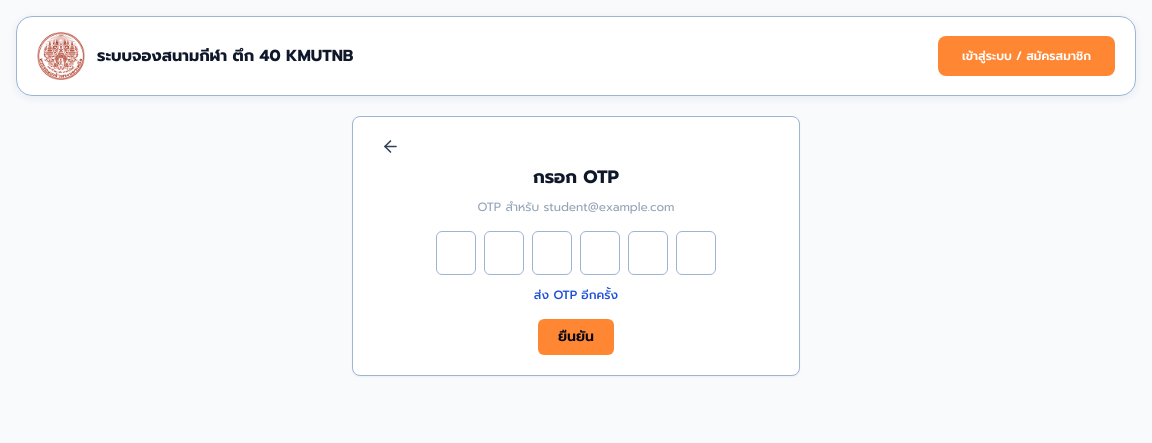
Test: keeps the OTP step on API failure: OTP นี้ถูกใช้แล้ว
Step 1. Type "1" into the field named "OTP หลักที่ 1" → (456, 253), box top-left (436, 231), bottom-right (476, 275)
Step 2. Type "2" into the field named "OTP หลักที่ 2" → (504, 253), box top-left (484, 231), bottom-right (524, 275)
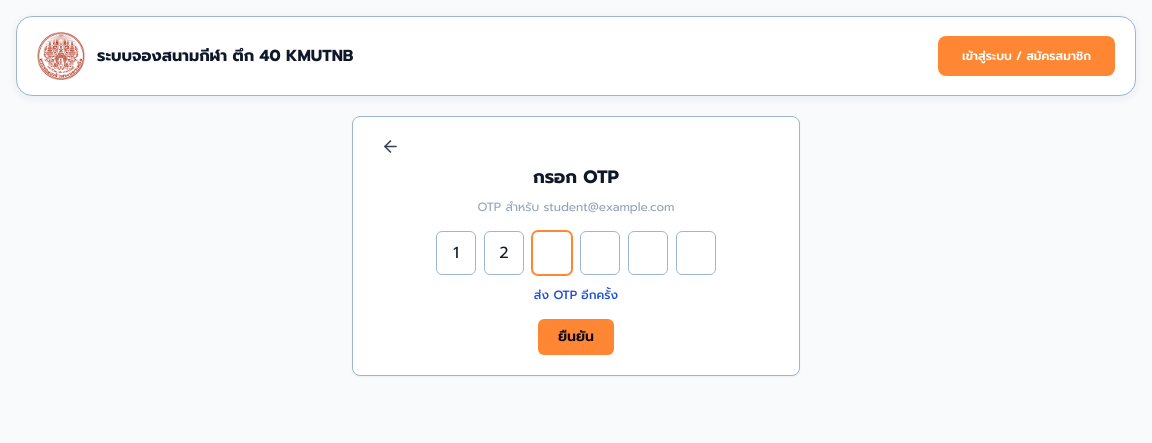
Step 3. Type "3" into the field named "OTP หลักที่ 3" → (552, 253), box top-left (532, 231), bottom-right (572, 275)
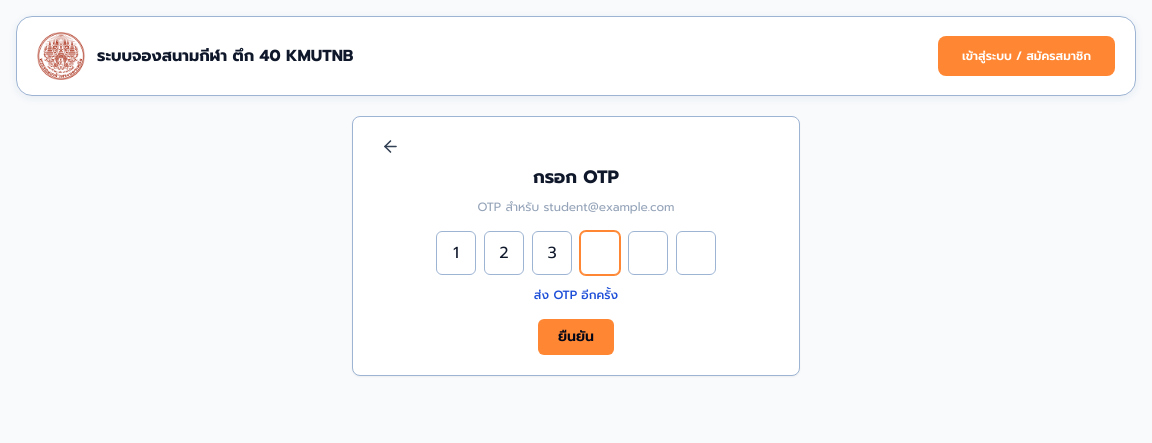
Step 4. Type "4" into the field named "OTP หลักที่ 4" → (600, 253), box top-left (580, 231), bottom-right (620, 275)
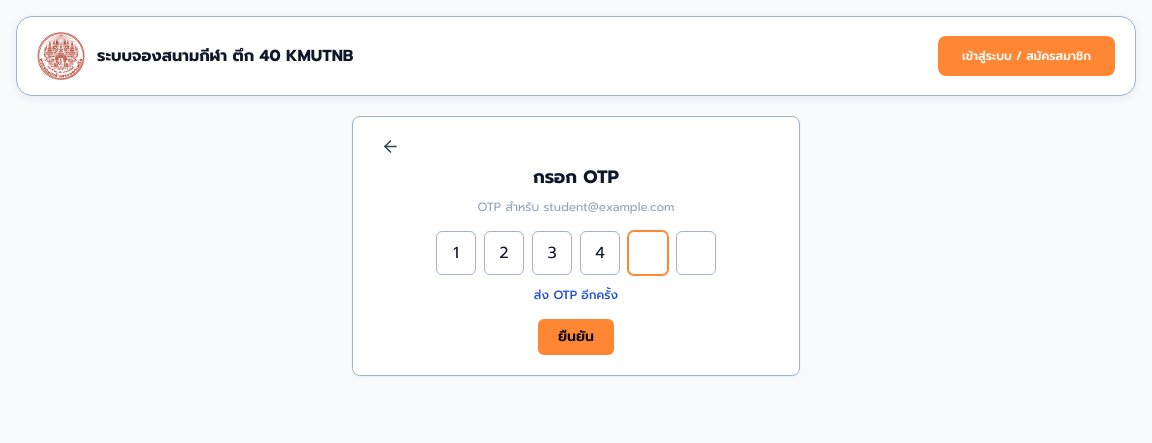
Step 5. Type "5" into the field named "OTP หลักที่ 5" → (648, 253), box top-left (628, 231), bottom-right (668, 275)
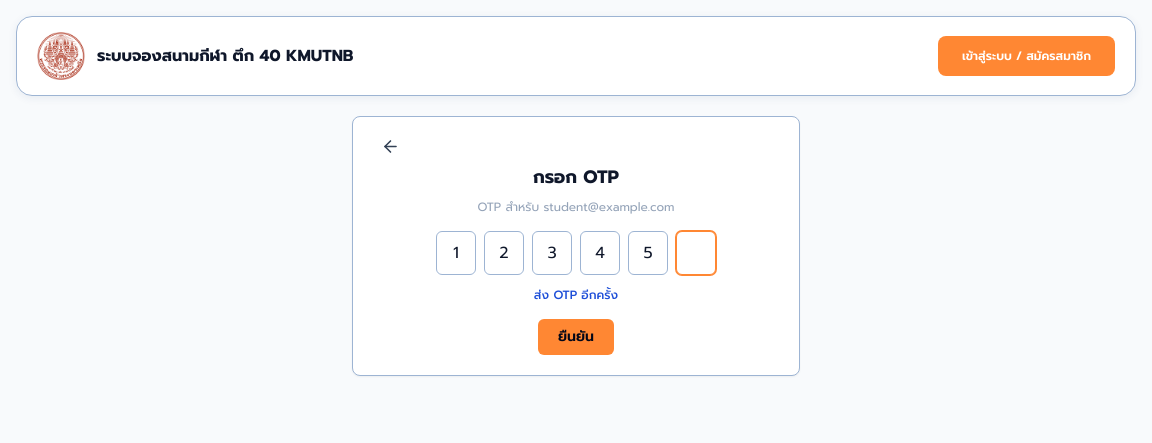
Step 6. Type "6" into the field named "OTP หลักที่ 6" → (696, 253), box top-left (676, 231), bottom-right (716, 275)
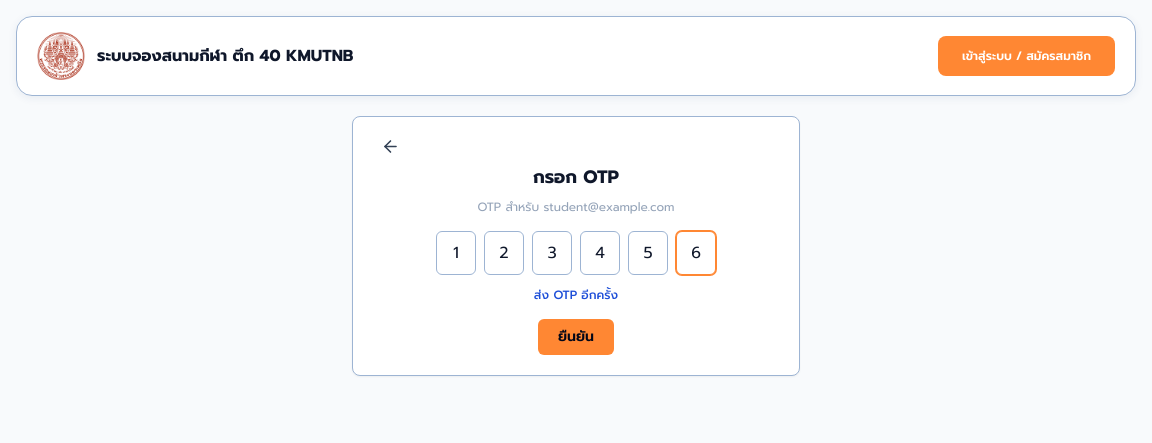
Step 7. Click the button "ยืนยัน" → (576, 337), box top-left (538, 319), bottom-right (614, 355)
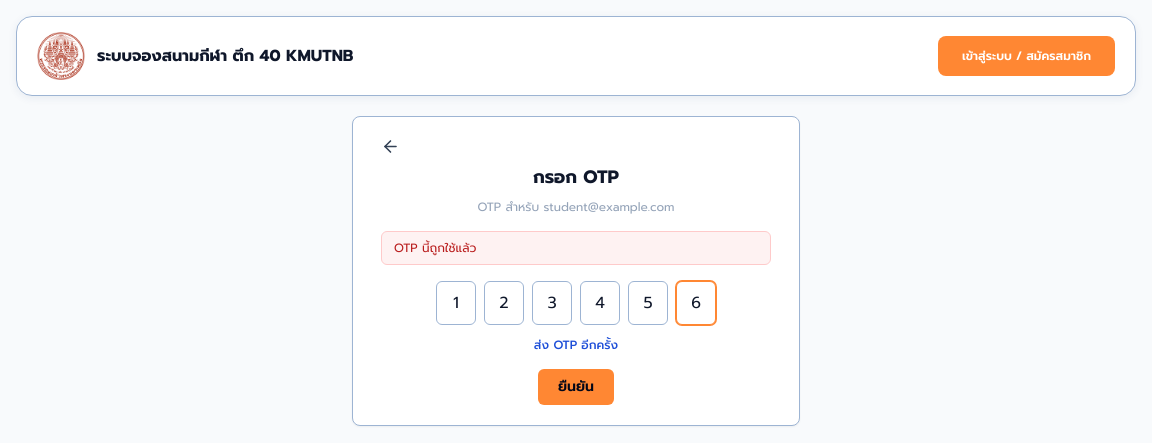
Now the message reads "OTP นี้ถูกใช้แล้ว", box top-left (394, 239), bottom-right (476, 257)
